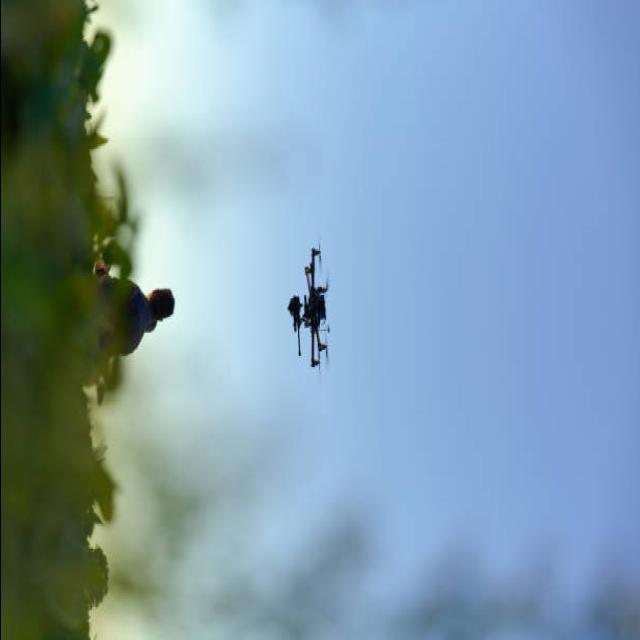drone: (286, 242, 331, 370)
